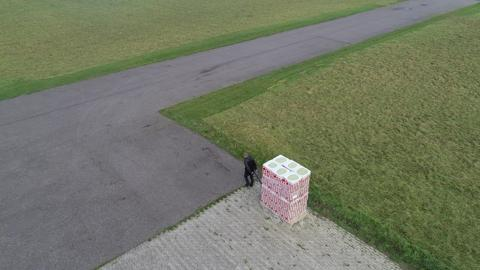RockwoolPallet: (261, 154, 313, 225)
